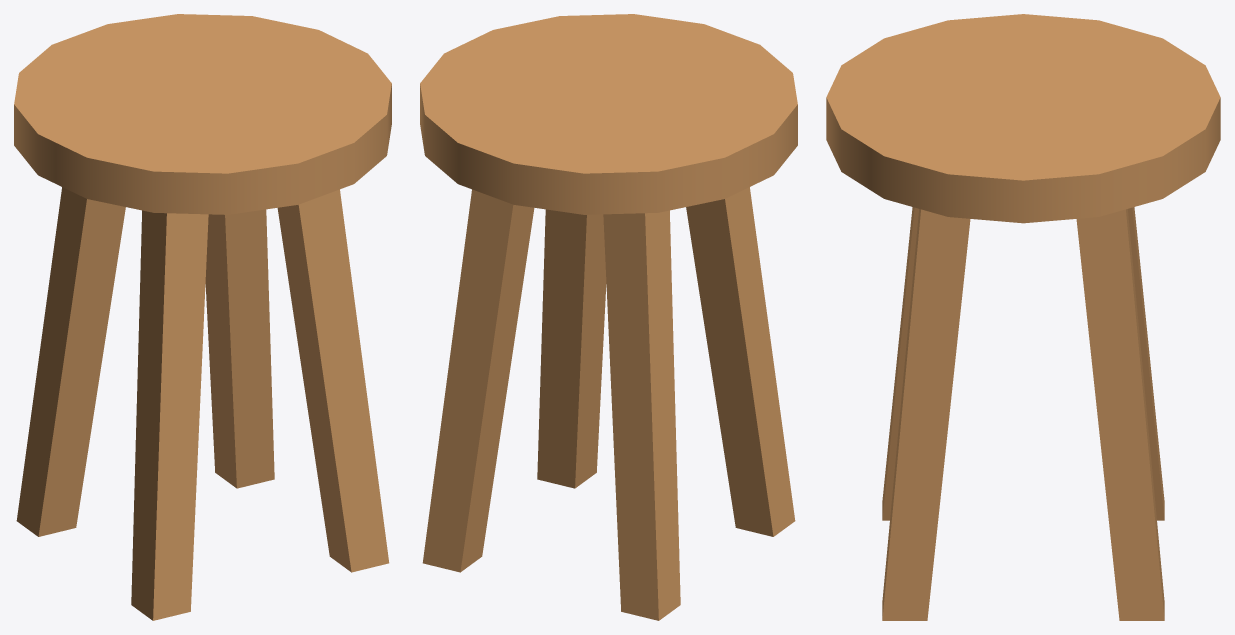
Rendered from Chair.fbx.
3 renders of one model, left to right at view 1: azimuth 30°, elevation 25°; view 2: azimuth 150°, elevation 25°; view 3: azimuth 270°, elevation 25°, orthographic. The views are drawn at different scales.
Visible parts, largest first — view 1: Stool; view 2: Stool; view 3: Stool.
Boxes of the visible parts, bbox=[...] form: Stool: bbox=[14, 14, 391, 620]; Stool: bbox=[420, 14, 797, 620]; Stool: bbox=[826, 14, 1220, 620].
Bounding box in the file's own units: 62.85 × 81.6 × 62.85.
